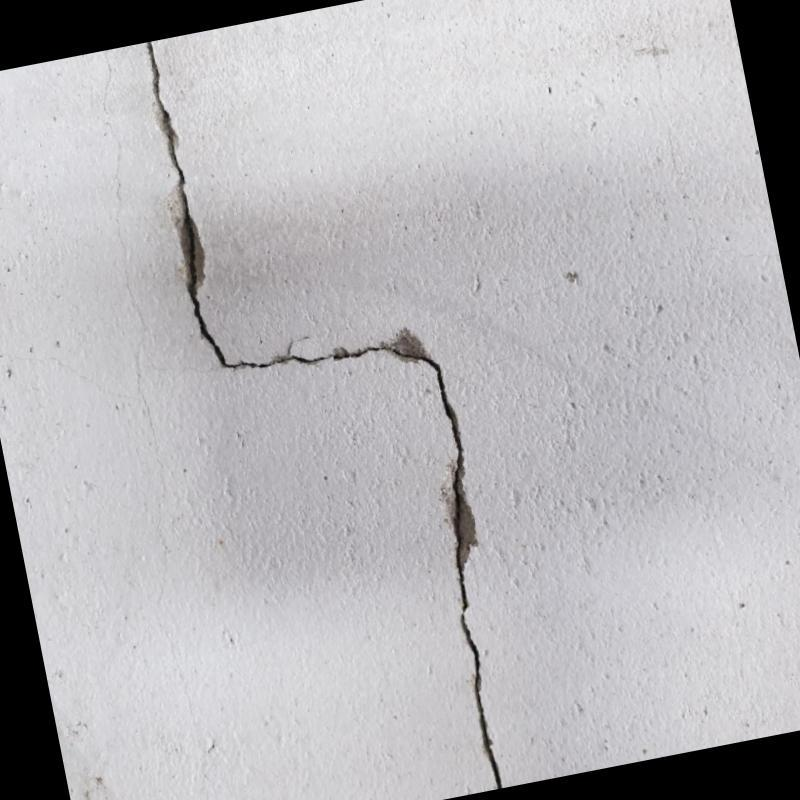pothole: (144, 42, 503, 788)
